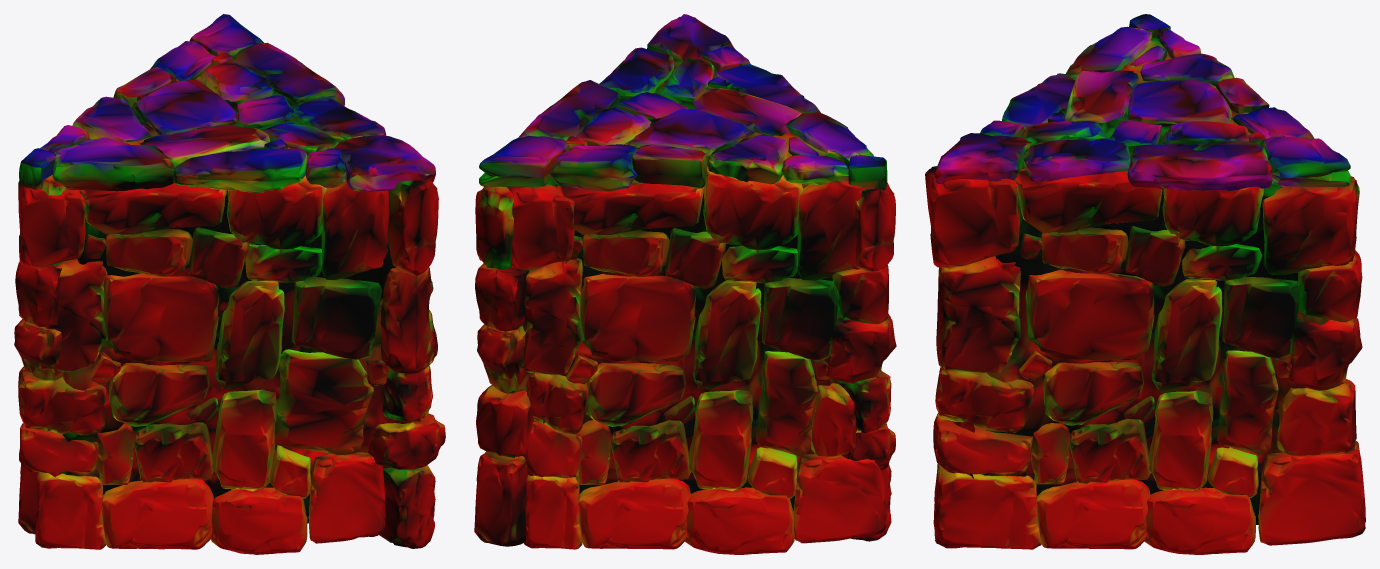
File: SM_Stone_Foundation_Tri.fbx
The picture shows the model from 3 angles, left to right: view 1: azimuth 30°, elevation 25°; view 2: azimuth 150°, elevation 25°; view 3: azimuth 270°, elevation 25°; orthographic projection.
Visible parts, largest first — view 1: SM_Stone_Foundation_Tri_LOD0; view 2: SM_Stone_Foundation_Tri_LOD0; view 3: SM_Stone_Foundation_Tri_LOD0.
Part boxes in pixels (bbox=[...]): SM_Stone_Foundation_Tri_LOD0: bbox=[14, 14, 445, 554]; SM_Stone_Foundation_Tri_LOD0: bbox=[474, 14, 896, 554]; SM_Stone_Foundation_Tri_LOD0: bbox=[925, 14, 1365, 554].
Size of the model in its own units: 274 by 313 by 311.
